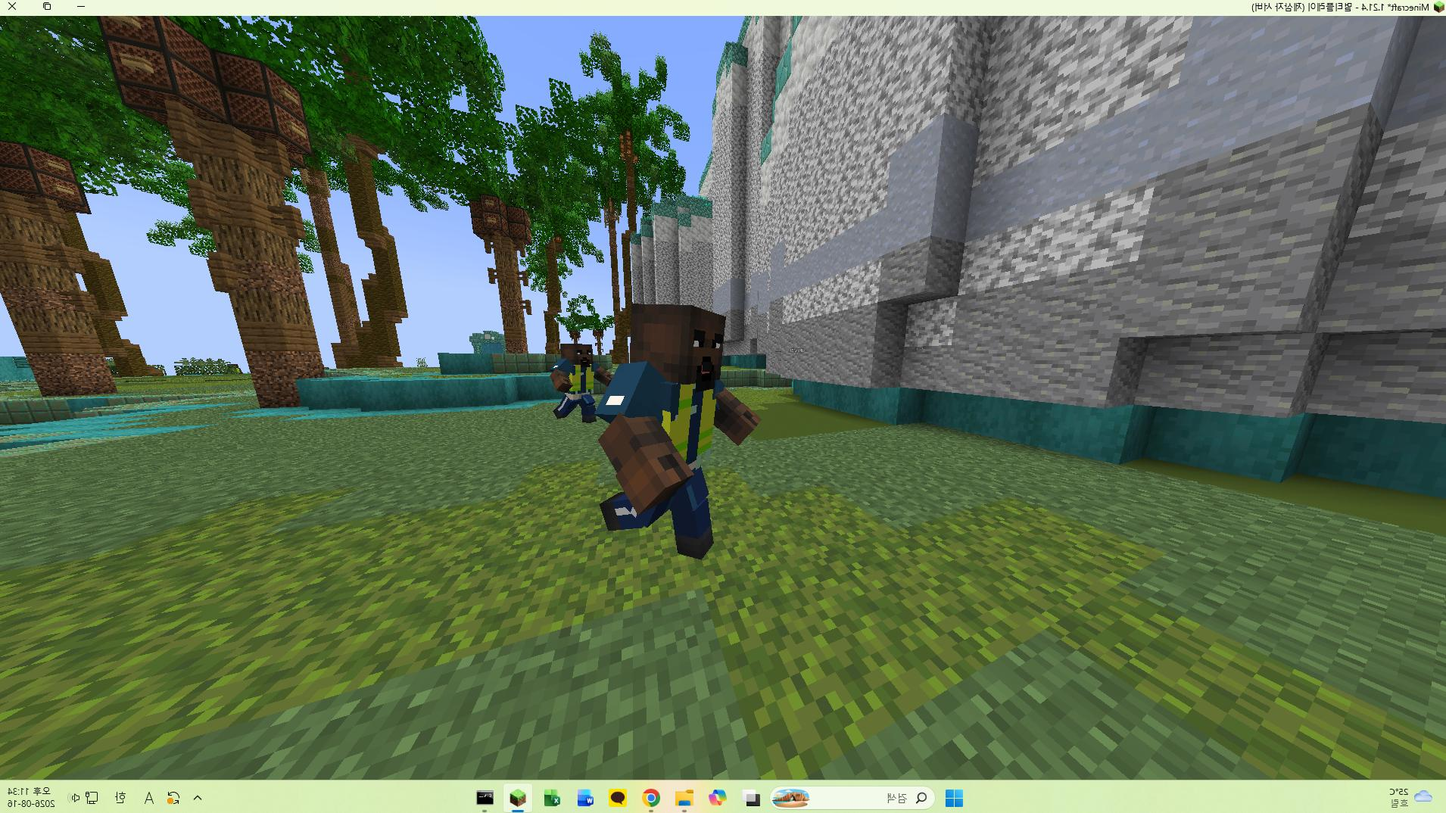Guardian: (597, 304, 759, 559), (550, 344, 611, 422)
